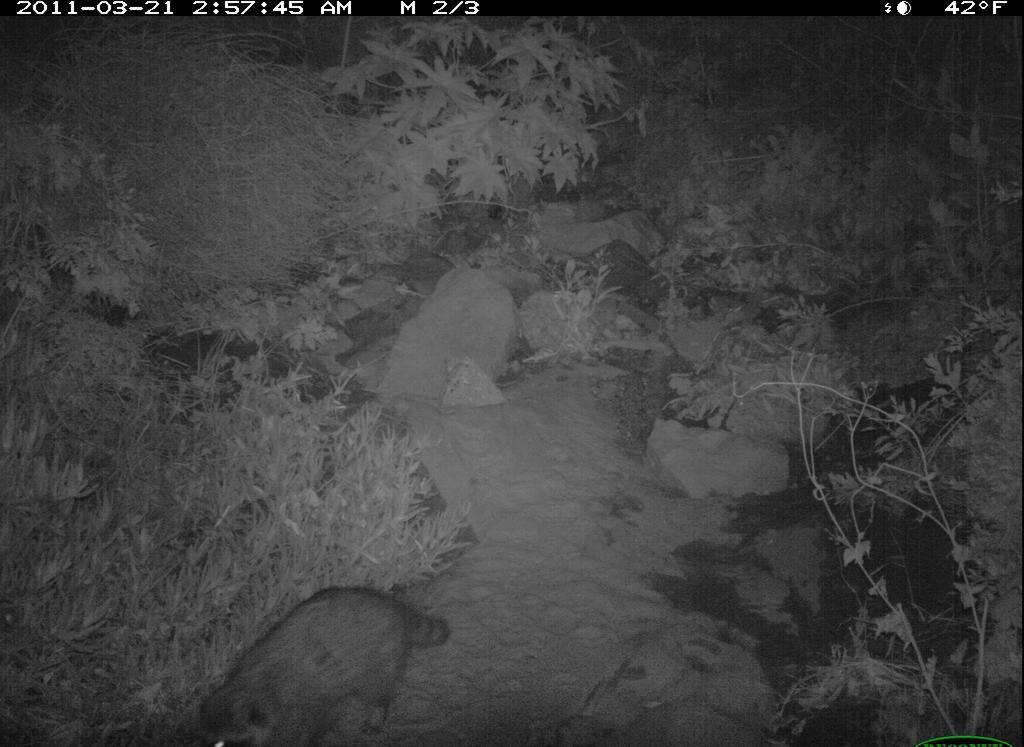raccoon: (195, 575, 472, 744)
